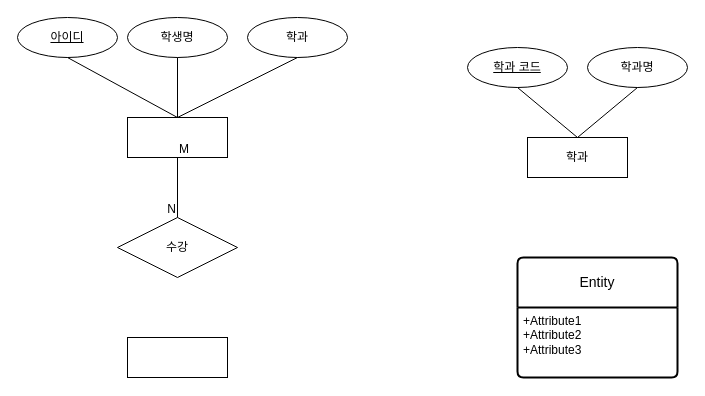
The diagram is 705 pixels wide and 396 high, and some of its shapes have lost their labels. The centre of each missing label's shape, as x and y in pixels:
과목: [177,357]
학생: [177,137]
